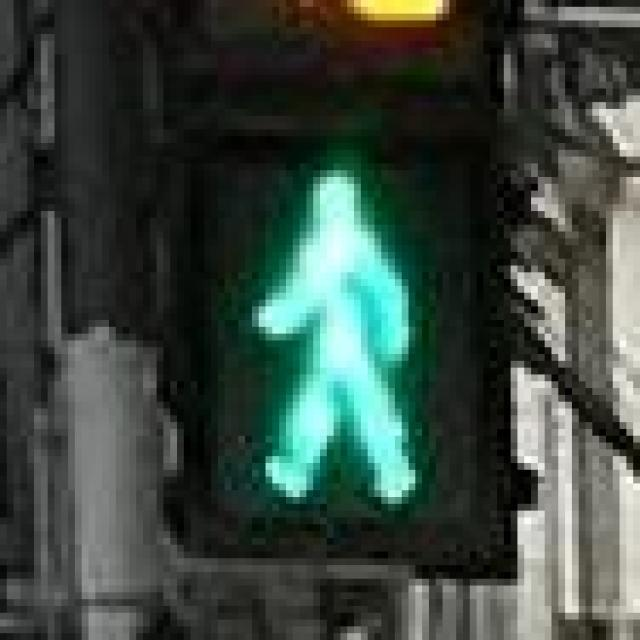geen-crossing: (163, 102, 470, 531)
